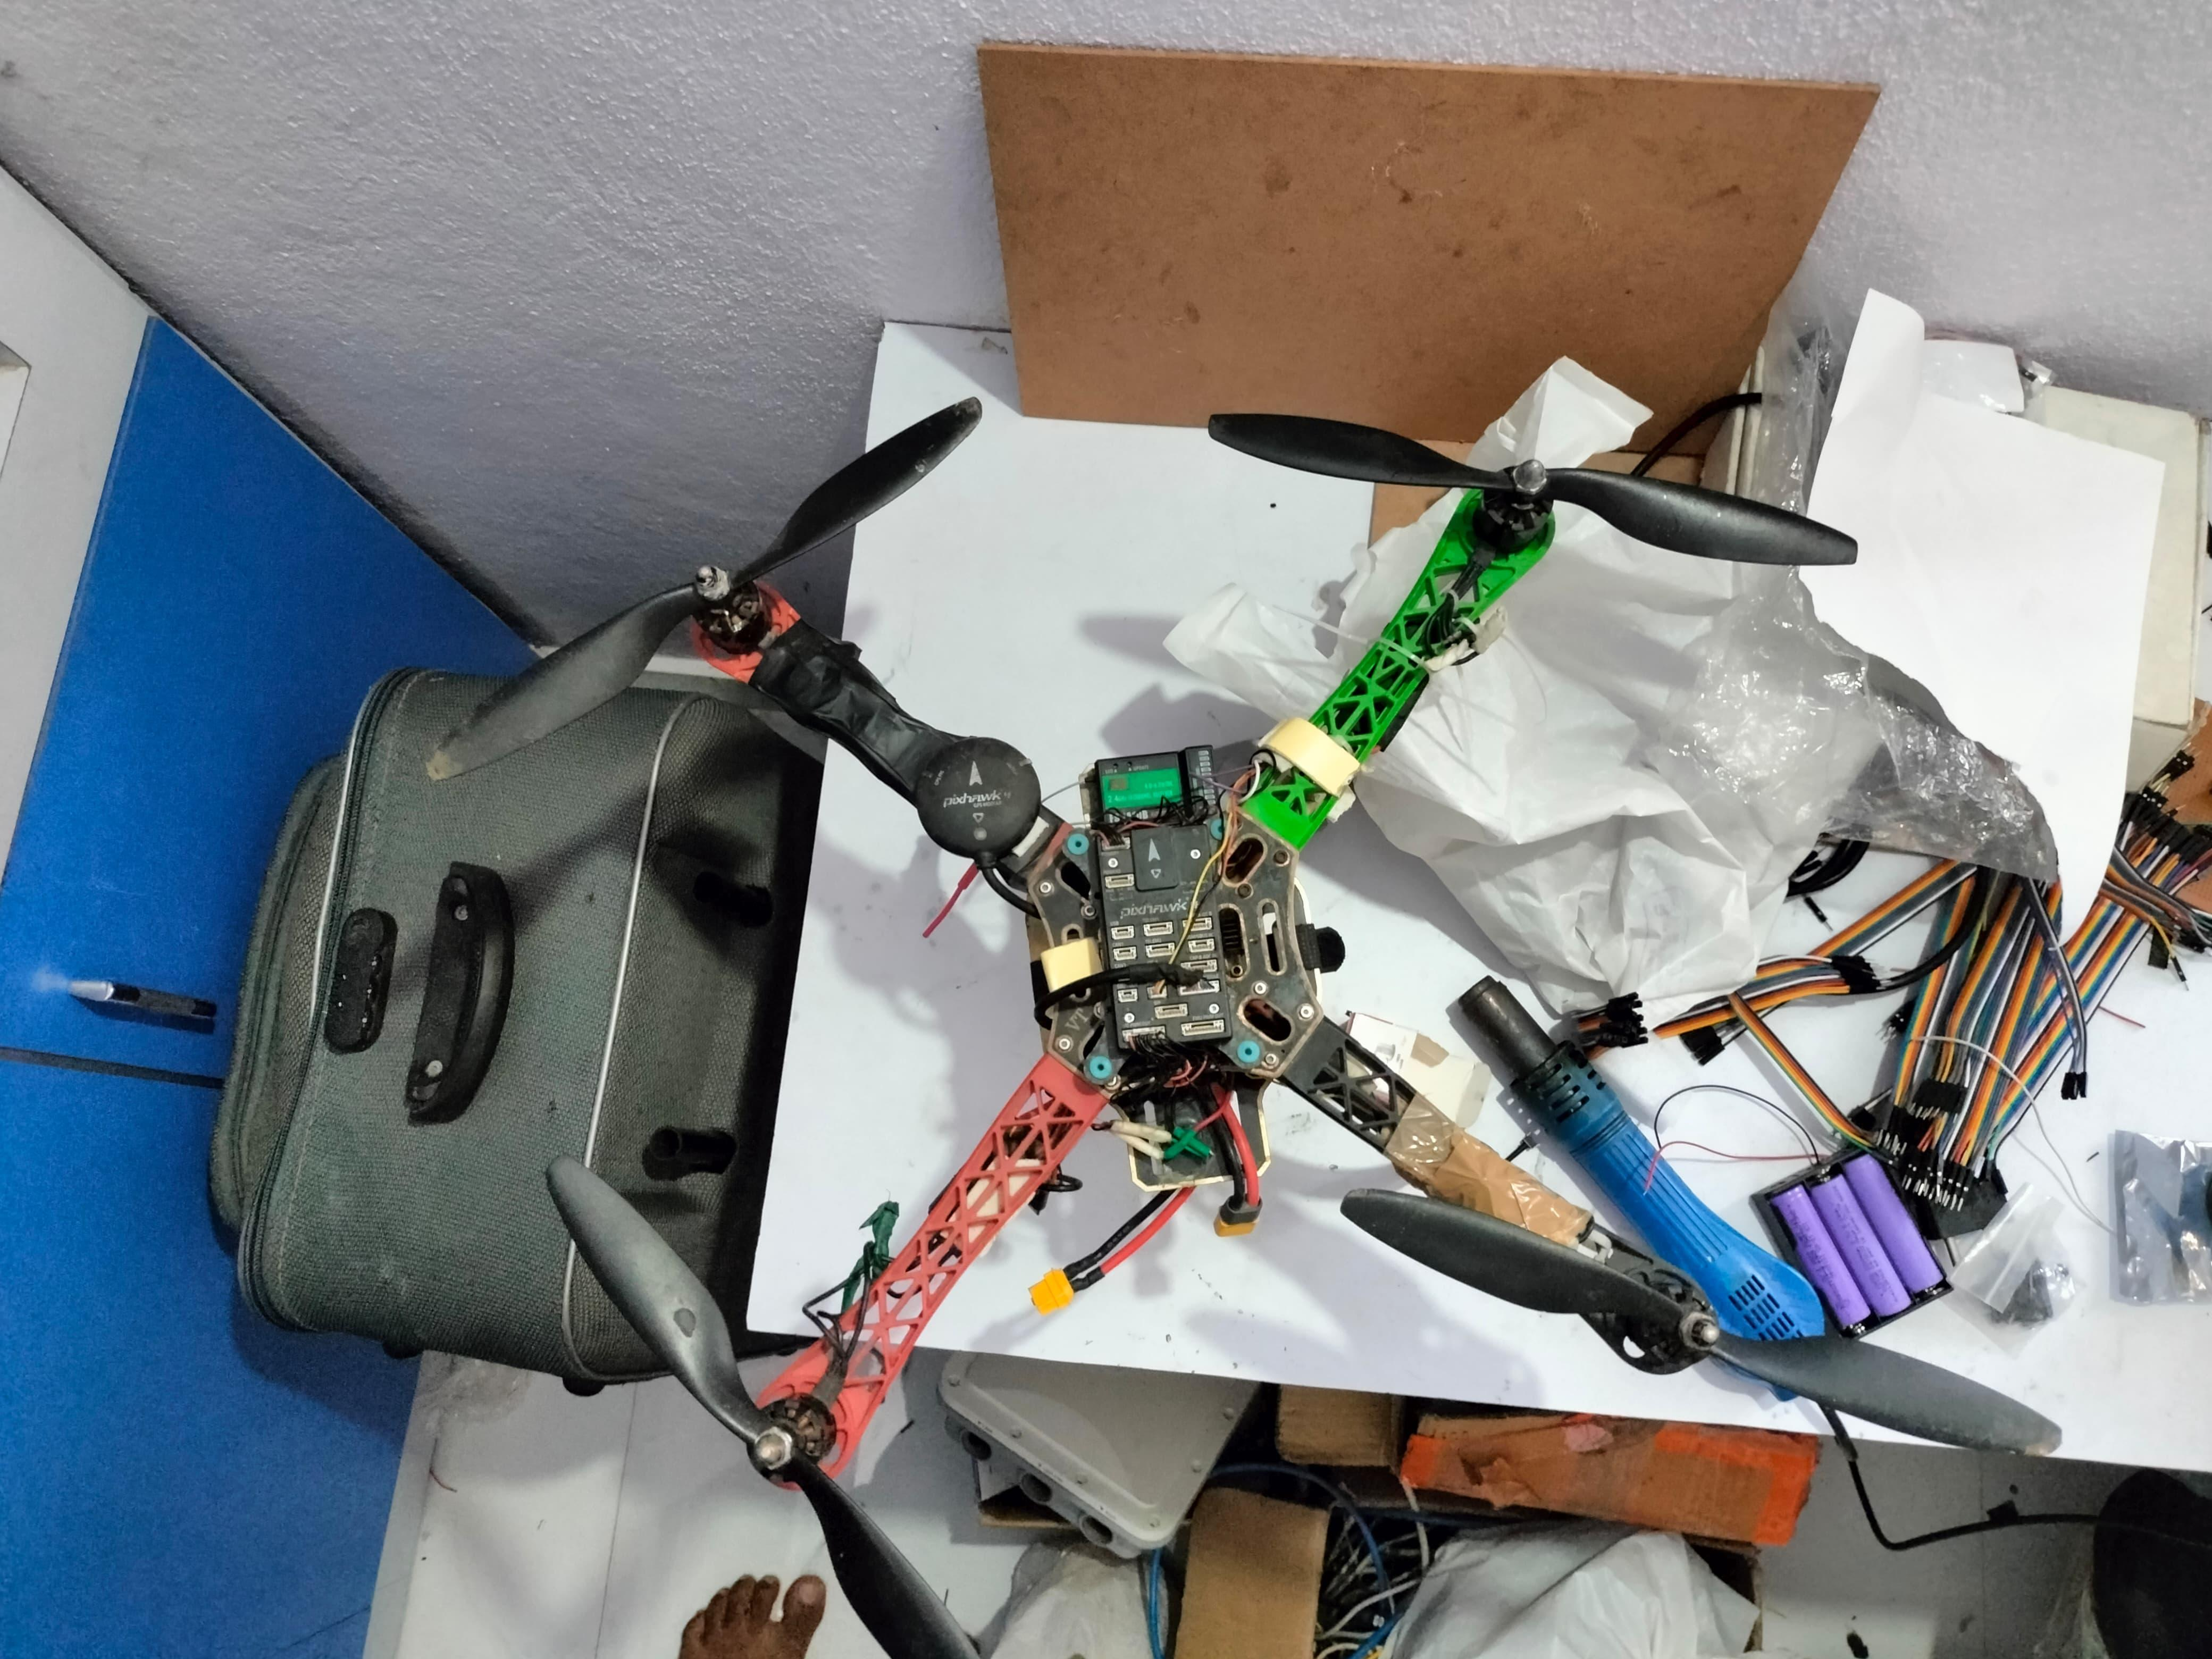drone: (522, 349, 2063, 1530)
